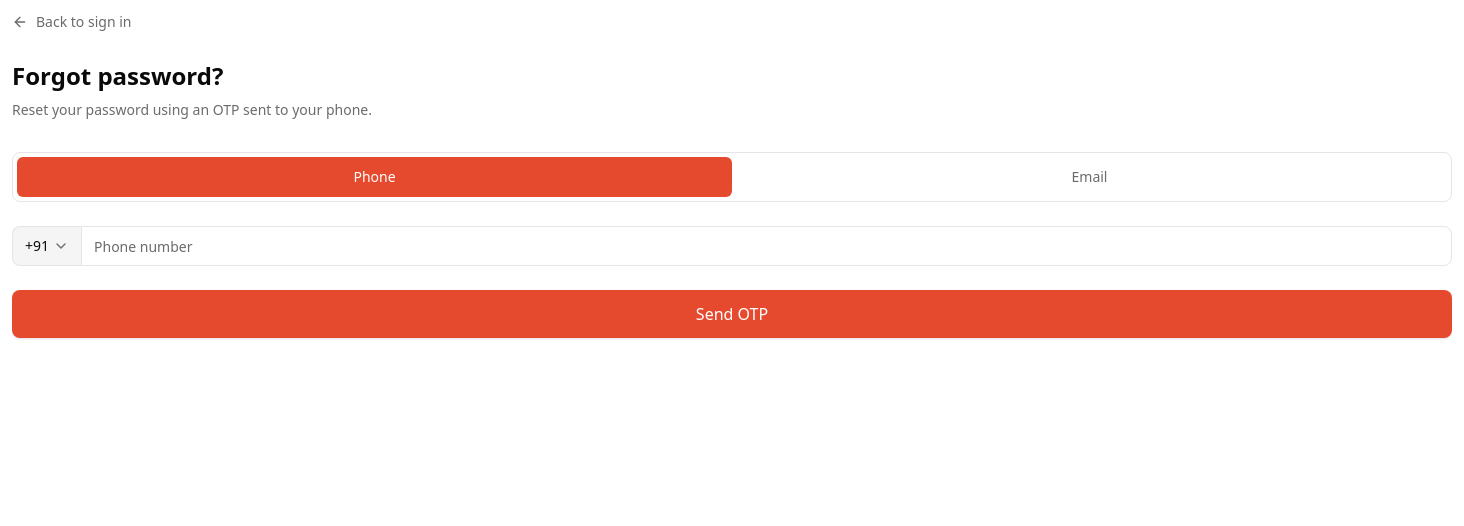
Scenario: ForgotPasswordPage resend › shows the unavailable message and starts no cooldown when the status check fails
Click the tab "Email" at coordinates (1090, 177), box [732,157,1447,197]
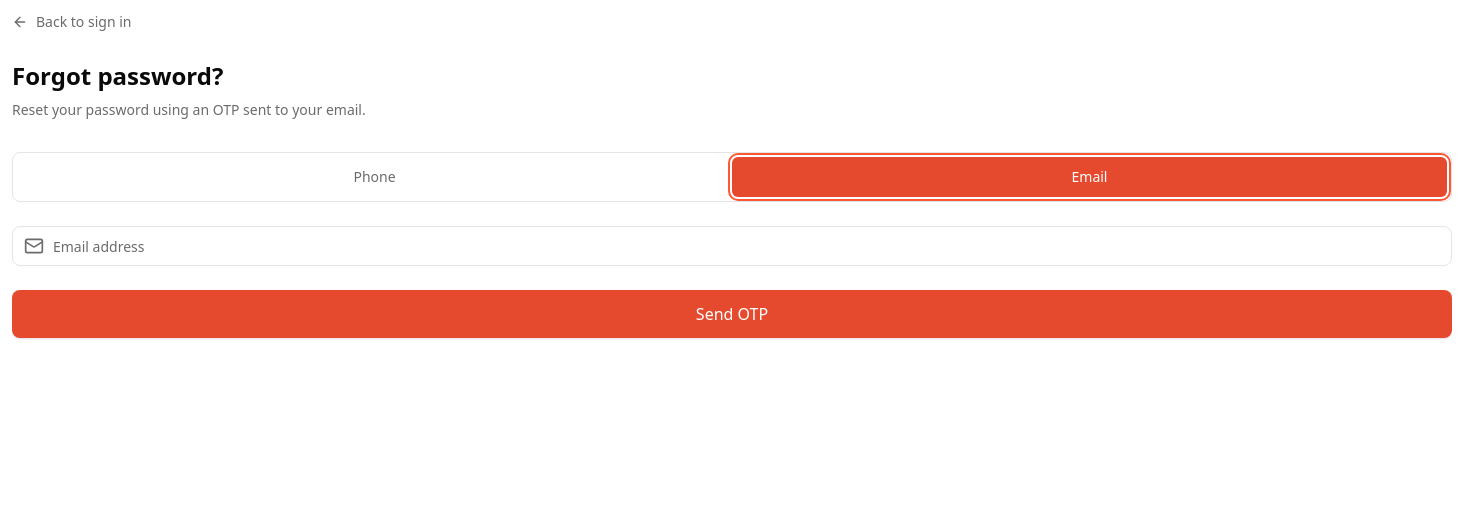
Type "a@example.com" into the field labelled "Email address" at coordinates (732, 246), box [12,226,1452,266]
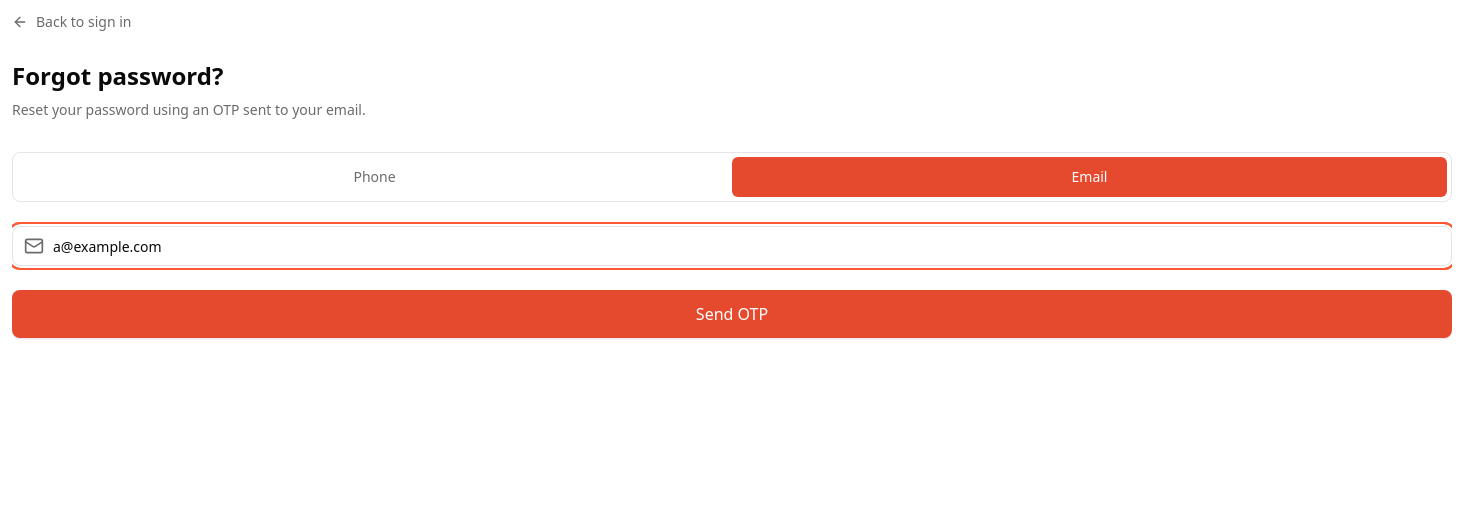
Click the button "Send OTP" at coordinates (732, 314), box [12,290,1452,338]
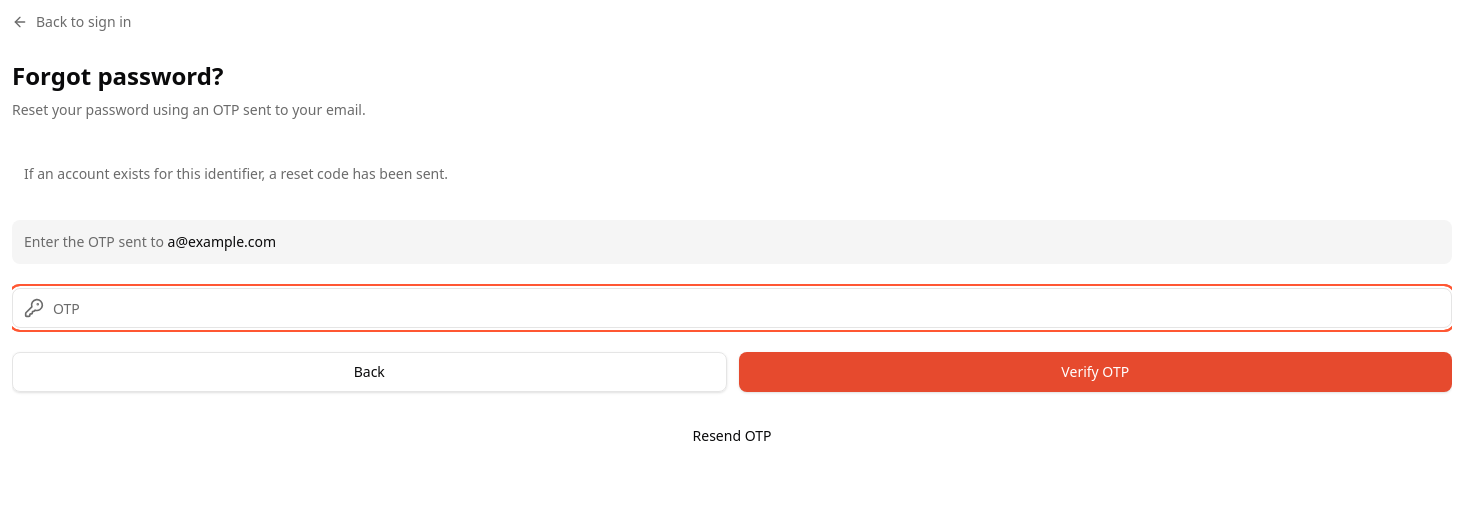
Expected: the text "Enter the OTP sent to a@example.com" is shown, [12,220,1452,264]
Click the button "Resend OTP" at coordinates (732, 436), box [12,416,1452,456]
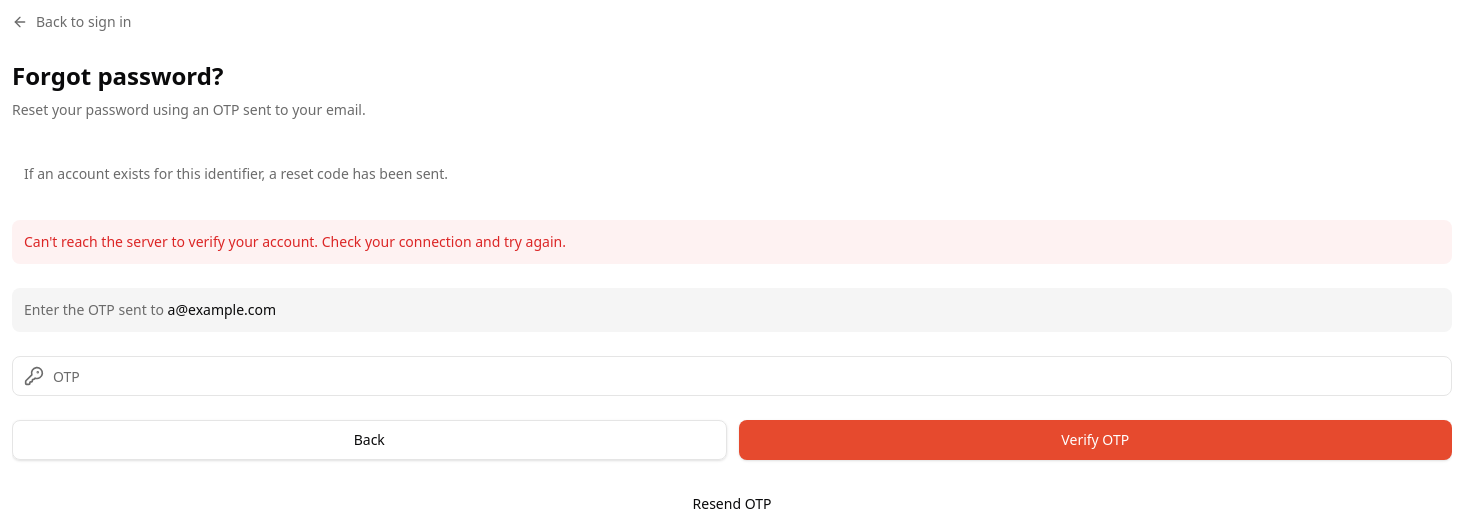
Expected: the text "Can't reach the server to verify your account. Check your connection and try again." is shown, [24,232,566,251]
